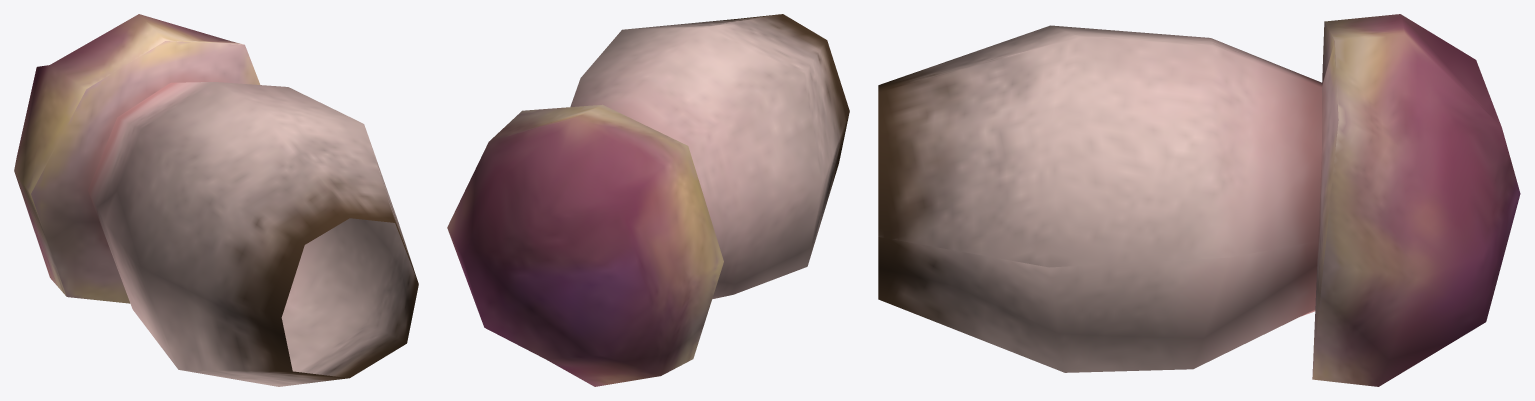
The model's file is Floor mushroom 2 - LOD 1.fbx.
The picture shows the model from 3 angles, left to right: view 1: azimuth 30°, elevation 25°; view 2: azimuth 150°, elevation 25°; view 3: azimuth 270°, elevation 25°; orthographic projection. The views are drawn at different scales.
Parts seen in each view (by area): view 1: Floor mushroom 2 - LOD 1; view 2: Floor mushroom 2 - LOD 1; view 3: Floor mushroom 2 - LOD 1.
Boxes of the visible parts, x1,y1,x2,y2 form: Floor mushroom 2 - LOD 1: (14,14,418,386); Floor mushroom 2 - LOD 1: (447,14,849,386); Floor mushroom 2 - LOD 1: (878,14,1520,386).
Bounding box in the file's own units: 0.2161 × 0.2223 × 0.3814.
